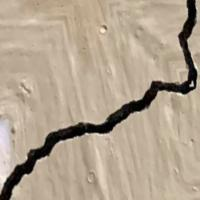crack: (2, 0, 199, 199)
